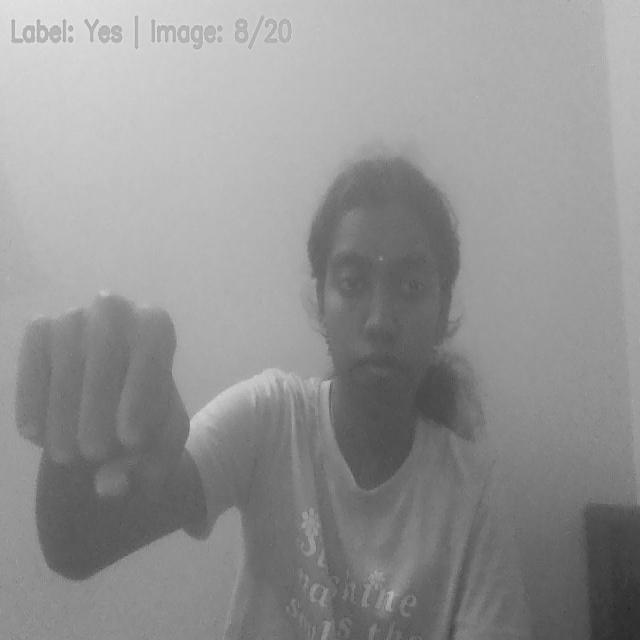Yes: (6, 294, 192, 502)
